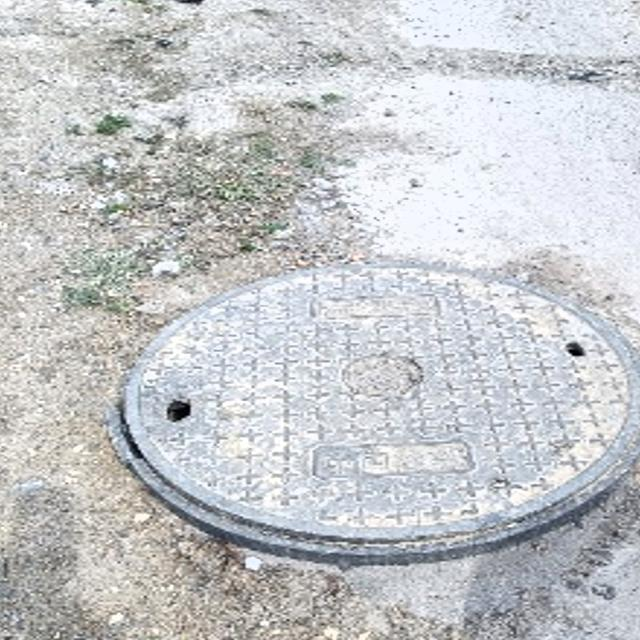good: (107, 261, 640, 563)
